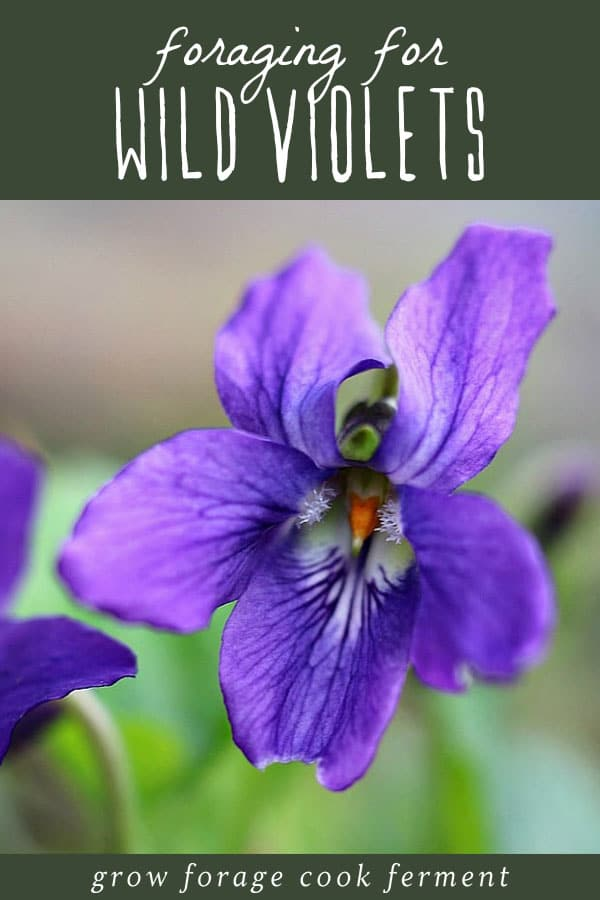violet: (70, 244, 566, 762)
